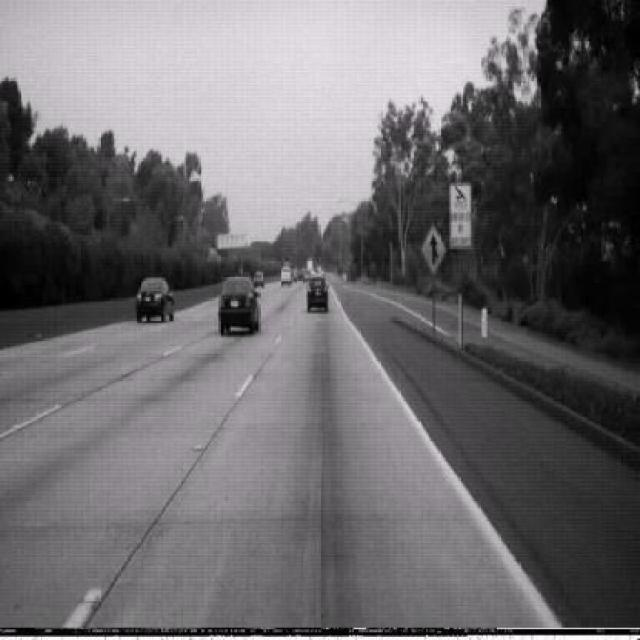merge: (418, 222, 448, 274)
